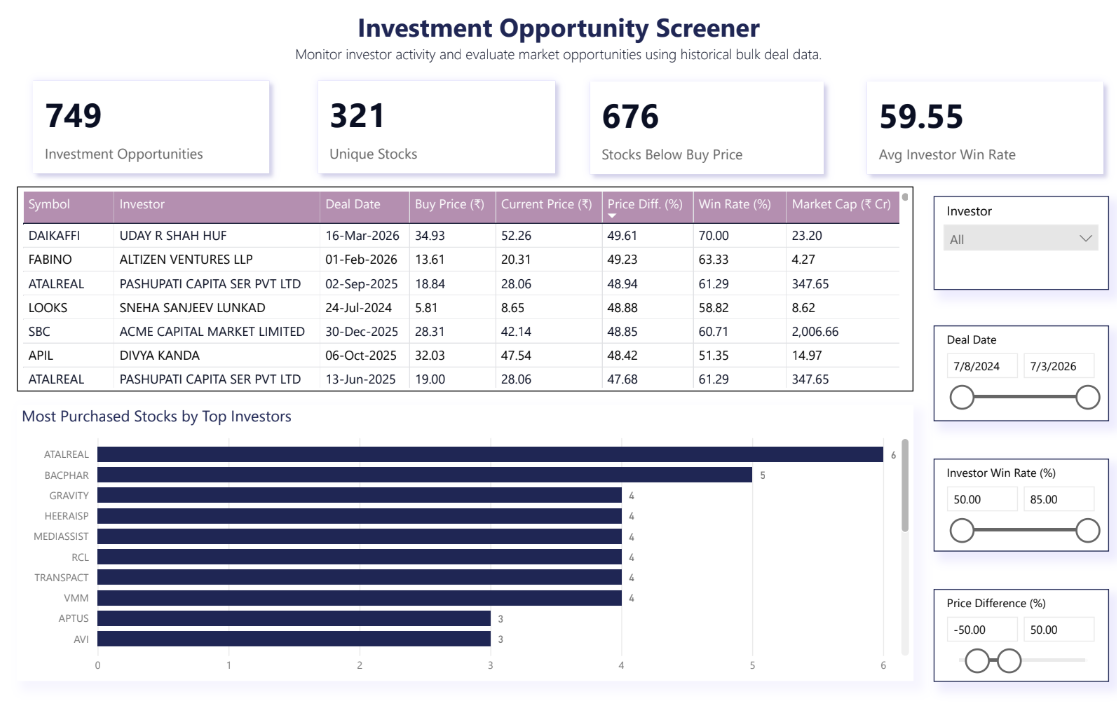

What the dashboard file says about the page in this screenshot:
{"tool":"powerbi","page":{"name":"Investment opportunities","canvas":[1280,720],"ordinal":1},"visuals":[{"type":"cardVisual","fields":{"Data":["vw_investment_opportunities.Investment Opportunities"]},"box":[36.3,59.8,280,130],"z":0},{"type":"cardVisual","fields":{"Data":["vw_investment_opportunities.Unique Stocks"]},"box":[358.3,59.8,280,130],"z":1000},{"type":"cardVisual","fields":{"Data":["vw_investment_opportunities.Stocks Below Buy Price"]},"box":[678.3,59.8,280,130],"z":2000},{"type":"cardVisual","fields":{"Data":["vw_investment_opportunities.Avg Investor Win Rate"]},"box":[988.3,59.8,280,130],"z":3000},{"type":"tableEx","fields":{"Values":["vw_investment_opportunities.symbol","vw_investment_opportunities.client_name","vw_investment_opportunities.deal_date","vw_investment_opportunities.buy_price","vw_investment_opportunities.current_price","vw_investment_opportunities.difference_pct","vw_investment_opportunities.win_rate","vw_investment_opportunities.market_cap"]},"box":[20,190,966,214],"z":4000},{"type":"slicer","fields":{"Values":["vw_investment_opportunities.client_name"]},"box":[1020,190,236,98],"z":5000},{"type":"slicer","fields":{"Values":["vw_investment_opportunities.deal_date"]},"box":[1020,318,234,100],"z":6000},{"type":"slicer","fields":{"Values":["vw_investment_opportunities.win_rate"]},"box":[1018.3,446.7,233.3,96.7],"z":7000},{"type":"slicer","fields":{"Values":["vw_investment_opportunities.difference_pct"]},"box":[1018.3,576.7,233.3,96.7],"z":8000},{"type":"textbox","box":[20,0,1230,67.5],"z":9000},{"type":"clusteredBarChart","title":"Most Purchased Stocks by Top Investors","fields":{"Category":["vw_investment_opportunities.symbol"],"Y":["Count(vw_investment_opportunities.client_name)"]},"box":[20,418,966,288],"z":10000}]}

Visuals, with their boxes on the page's 1280x720 design canvas (x1, y1, x2, y2). These are canvas units, not pixel positions in the 1117x708 screenshot, which may show the page scaled, cropped or inside an application window:
cardVisual - vw_investment_opportunities.Investment Opportunities: box(36, 60, 316, 190)
cardVisual - vw_investment_opportunities.Unique Stocks: box(358, 60, 638, 190)
cardVisual - vw_investment_opportunities.Stocks Below Buy Price: box(678, 60, 958, 190)
cardVisual - vw_investment_opportunities.Avg Investor Win Rate: box(988, 60, 1268, 190)
tableEx - vw_investment_opportunities.symbol x vw_investment_opportunities.client_name: box(20, 190, 986, 404)
slicer - vw_investment_opportunities.client_name: box(1020, 190, 1256, 288)
slicer - vw_investment_opportunities.deal_date: box(1020, 318, 1254, 418)
slicer - vw_investment_opportunities.win_rate: box(1018, 447, 1252, 543)
slicer - vw_investment_opportunities.difference_pct: box(1018, 577, 1252, 673)
textbox: box(20, 0, 1250, 68)
"Most Purchased Stocks by Top Investors" clusteredBarChart: box(20, 418, 986, 706)
